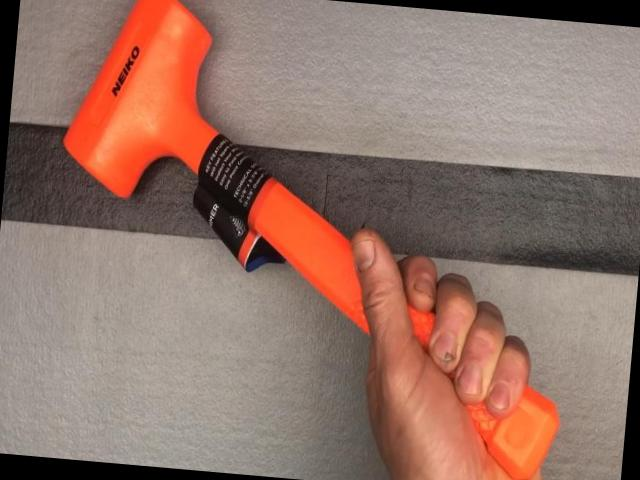hammer: (38, 0, 593, 480)
